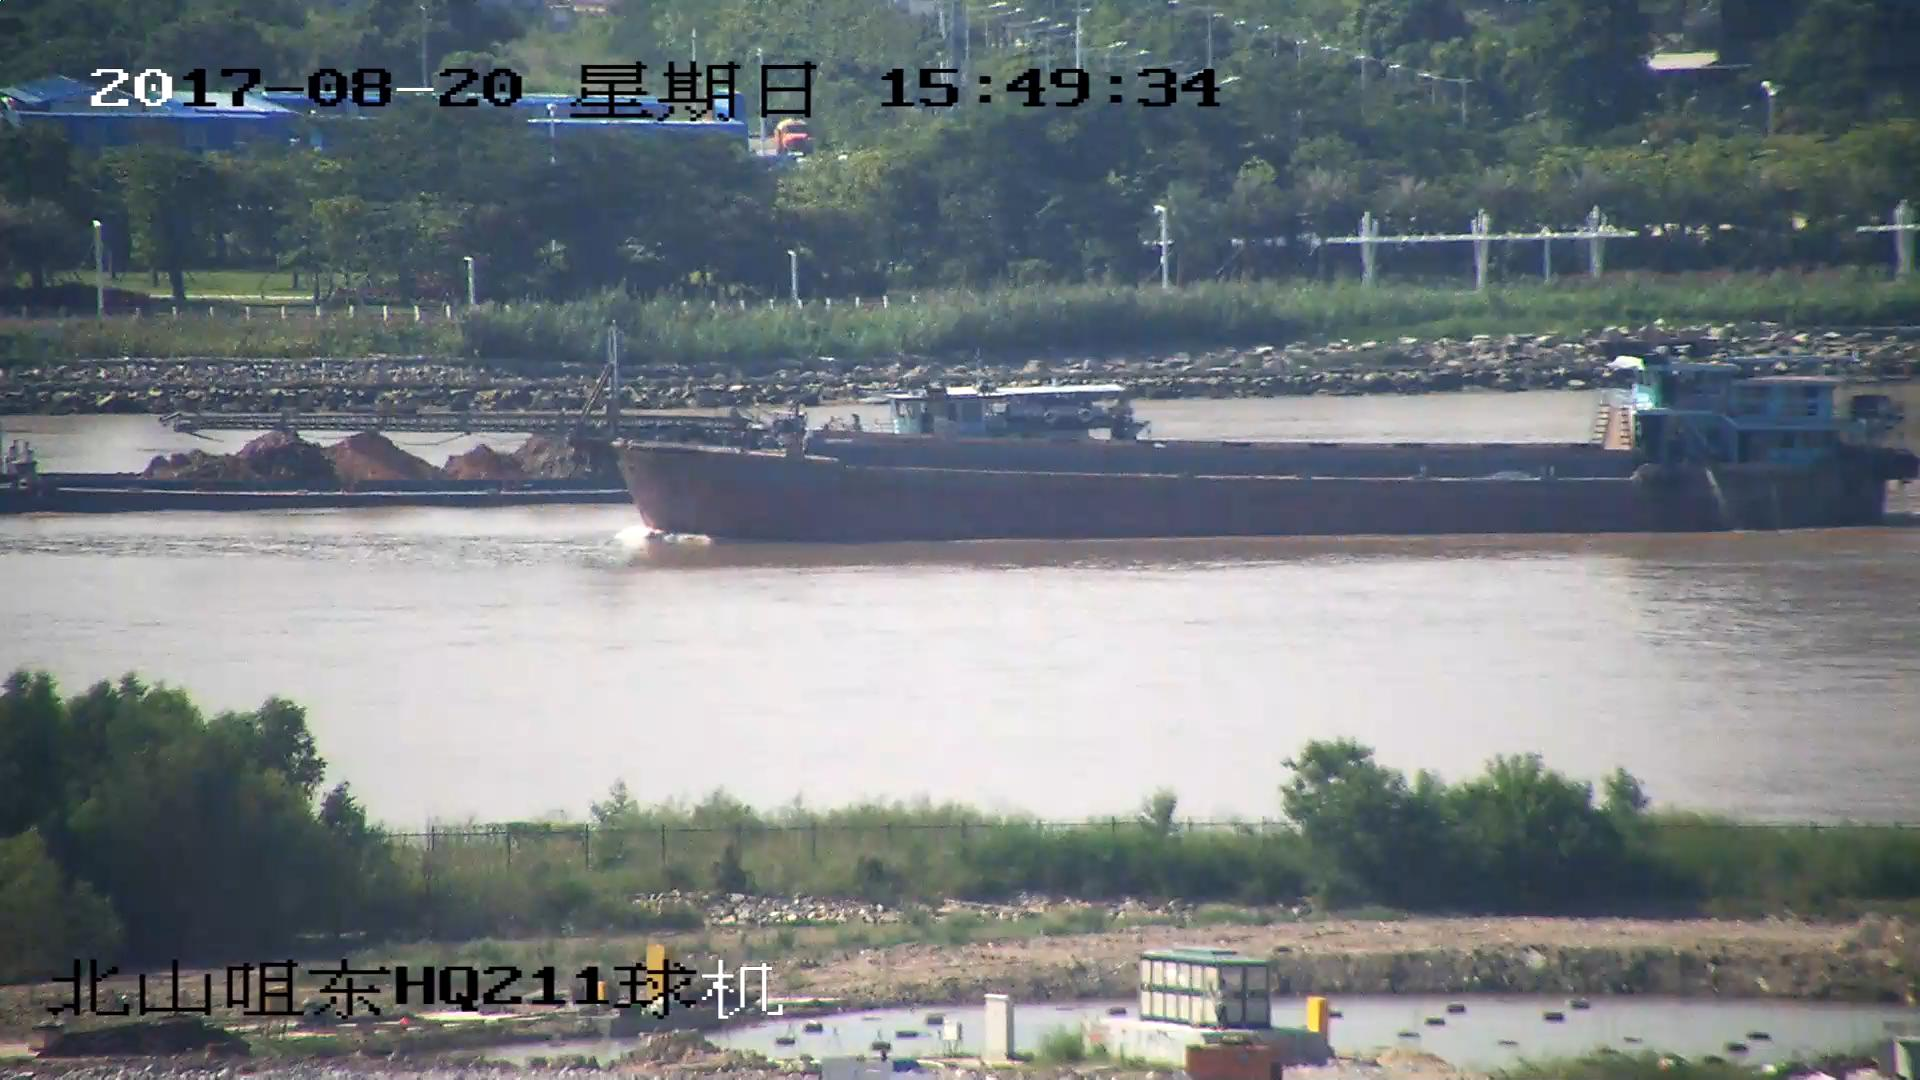bulk cargo carrier: (191, 348, 1920, 537)
ore carrier: (1, 378, 1155, 507)
